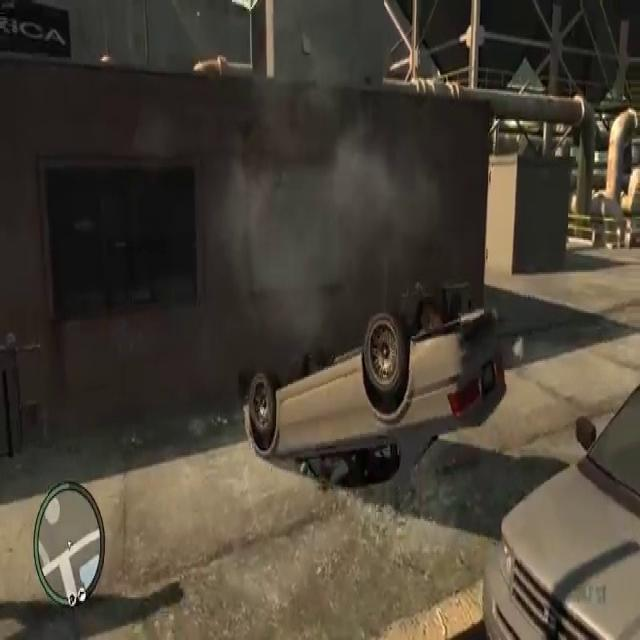accident: (233, 282, 511, 500)
